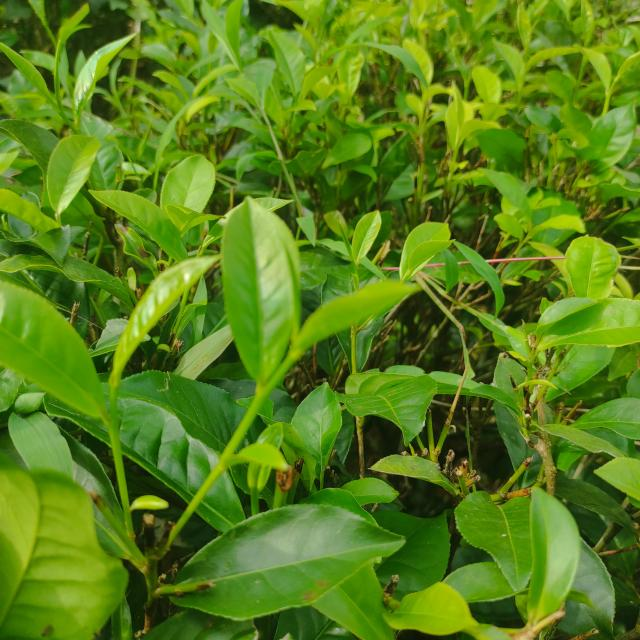unopened_leaf: (267, 219, 304, 353), (118, 138, 144, 186), (331, 217, 357, 262)
